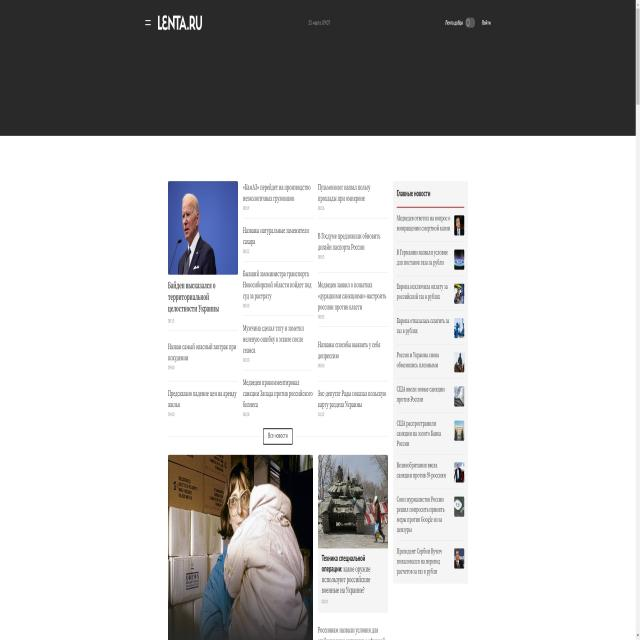menu-bar: (438, 12, 494, 30)
